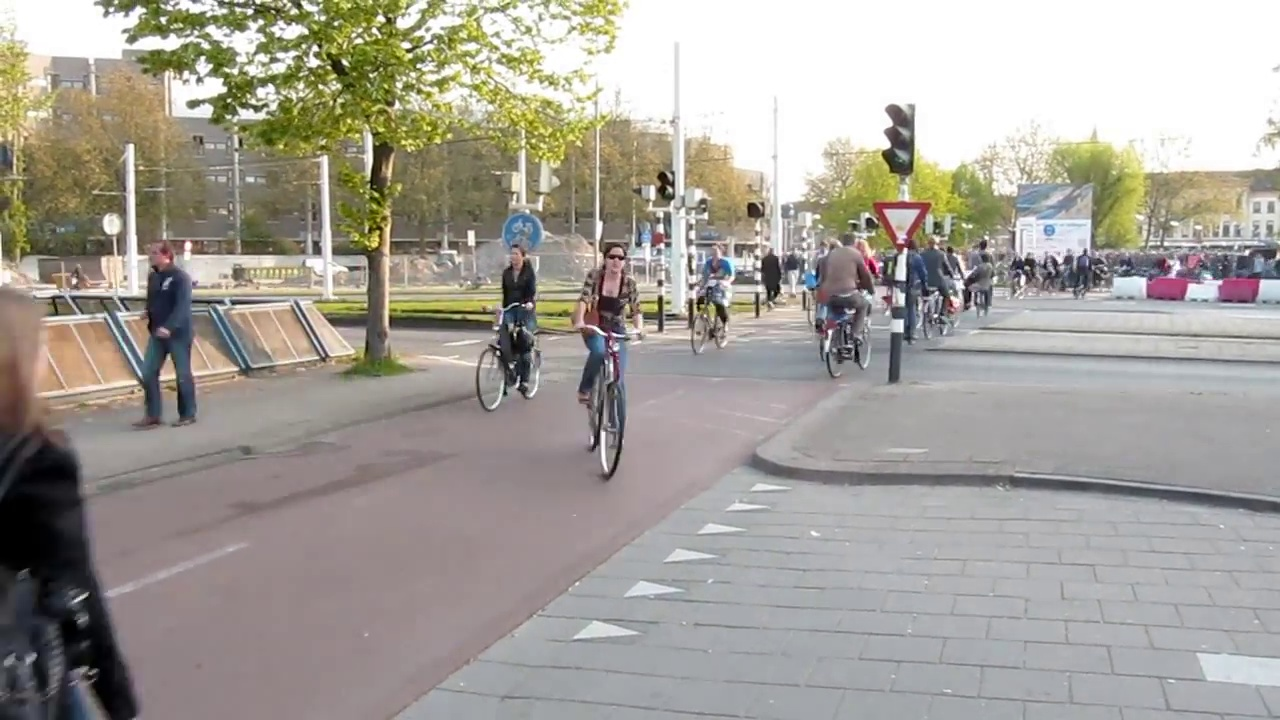cyclist_back: (819, 233, 876, 377), (920, 236, 957, 339)
cyclist_front: (572, 239, 648, 494), (482, 235, 551, 409), (688, 243, 734, 349)
